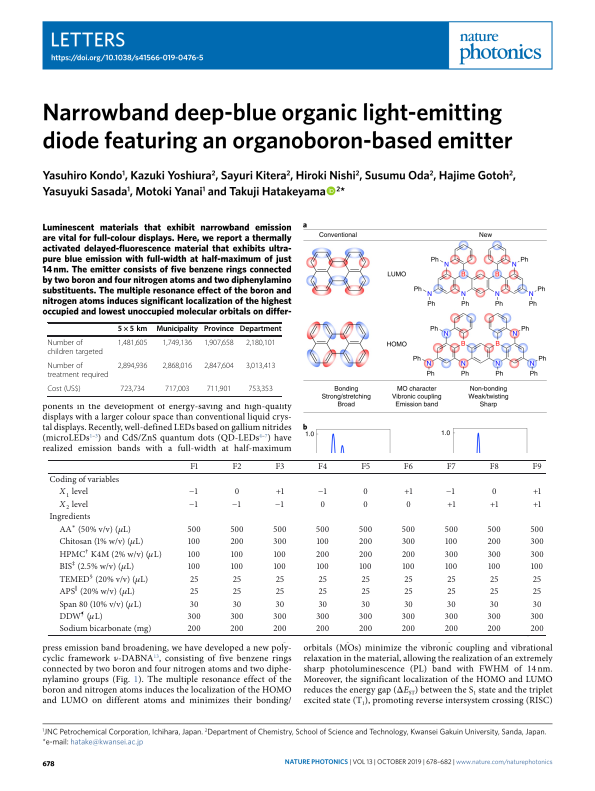borderless: (46, 458, 546, 635), (46, 321, 282, 396)
cell: (58, 545, 163, 562), (58, 571, 149, 587), (58, 534, 144, 549), (58, 596, 143, 611), (58, 583, 136, 599), (58, 558, 135, 574), (58, 521, 132, 537), (47, 361, 109, 379), (58, 624, 152, 635), (47, 338, 104, 356), (58, 608, 104, 624), (48, 475, 120, 485), (58, 496, 89, 513), (58, 484, 89, 500), (48, 512, 91, 523), (155, 325, 199, 334), (239, 325, 282, 334), (161, 338, 193, 348), (203, 338, 235, 348), (47, 384, 82, 393), (117, 338, 148, 348), (245, 338, 276, 348), (203, 325, 235, 334), (161, 361, 193, 370), (203, 361, 235, 370), (117, 325, 148, 334), (117, 361, 148, 370), (245, 361, 276, 370), (119, 384, 146, 393), (247, 384, 274, 393), (164, 384, 190, 393), (206, 384, 232, 393), (188, 496, 200, 512), (231, 496, 243, 512), (274, 496, 286, 512), (188, 484, 200, 499), (317, 484, 329, 499), (229, 537, 245, 548), (229, 624, 245, 635), (446, 484, 457, 499), (272, 537, 287, 548), (358, 537, 373, 548), (401, 537, 416, 548), (487, 537, 502, 548), (530, 537, 545, 548), (315, 549, 330, 560), (358, 549, 373, 560), (401, 549, 416, 560), (444, 549, 459, 560), (487, 549, 502, 560), (530, 549, 545, 560), (187, 624, 202, 635), (272, 624, 287, 635), (315, 624, 330, 635), (358, 624, 373, 635), (401, 624, 416, 635), (444, 624, 459, 635), (487, 624, 502, 635), (530, 624, 545, 635), (229, 525, 245, 535), (229, 612, 245, 622), (187, 537, 201, 548), (316, 537, 330, 548), (444, 537, 458, 548), (187, 549, 201, 560), (230, 549, 244, 560), (273, 549, 287, 560), (187, 562, 201, 573), (230, 562, 244, 573), (273, 562, 287, 573), (316, 562, 330, 573), (359, 562, 373, 573), (401, 562, 415, 573), (444, 562, 458, 573), (487, 562, 501, 573), (530, 562, 544, 573), (187, 525, 202, 535), (272, 525, 287, 535), (315, 525, 330, 535), (358, 525, 373, 535), (401, 525, 416, 535), (444, 525, 459, 535), (487, 525, 502, 535), (530, 525, 545, 535), (187, 612, 202, 622), (272, 612, 287, 622), (315, 612, 330, 622), (358, 612, 373, 622), (401, 612, 416, 622), (444, 612, 459, 622), (487, 612, 502, 622), (530, 612, 545, 622), (274, 462, 285, 473), (317, 462, 328, 473), (360, 462, 371, 473), (403, 462, 414, 473), (446, 462, 457, 473), (489, 462, 500, 473), (532, 462, 543, 473), (403, 487, 414, 498), (360, 574, 371, 585), (403, 574, 414, 585), (446, 574, 457, 585), (317, 599, 328, 610), (360, 599, 371, 610), (403, 599, 414, 610), (446, 599, 457, 610), (189, 462, 199, 473), (232, 462, 242, 473), (275, 487, 285, 498), (532, 487, 542, 498), (189, 574, 199, 585), (232, 574, 242, 585), (275, 574, 285, 585), (318, 574, 328, 585), (489, 574, 499, 585), (532, 574, 542, 585), (360, 587, 371, 597), (403, 587, 414, 597), (446, 587, 457, 597), (189, 599, 199, 610), (232, 599, 242, 610), (275, 599, 285, 610), (489, 599, 499, 610), (532, 599, 542, 610), (446, 500, 456, 510), (489, 500, 499, 510), (532, 500, 542, 510), (189, 587, 199, 597), (232, 587, 242, 597), (275, 587, 285, 597), (318, 587, 328, 597), (489, 587, 499, 597), (532, 587, 542, 597), (362, 487, 369, 498), (362, 500, 369, 510), (405, 500, 412, 510), (234, 487, 240, 498), (491, 487, 497, 498), (320, 500, 326, 510)
